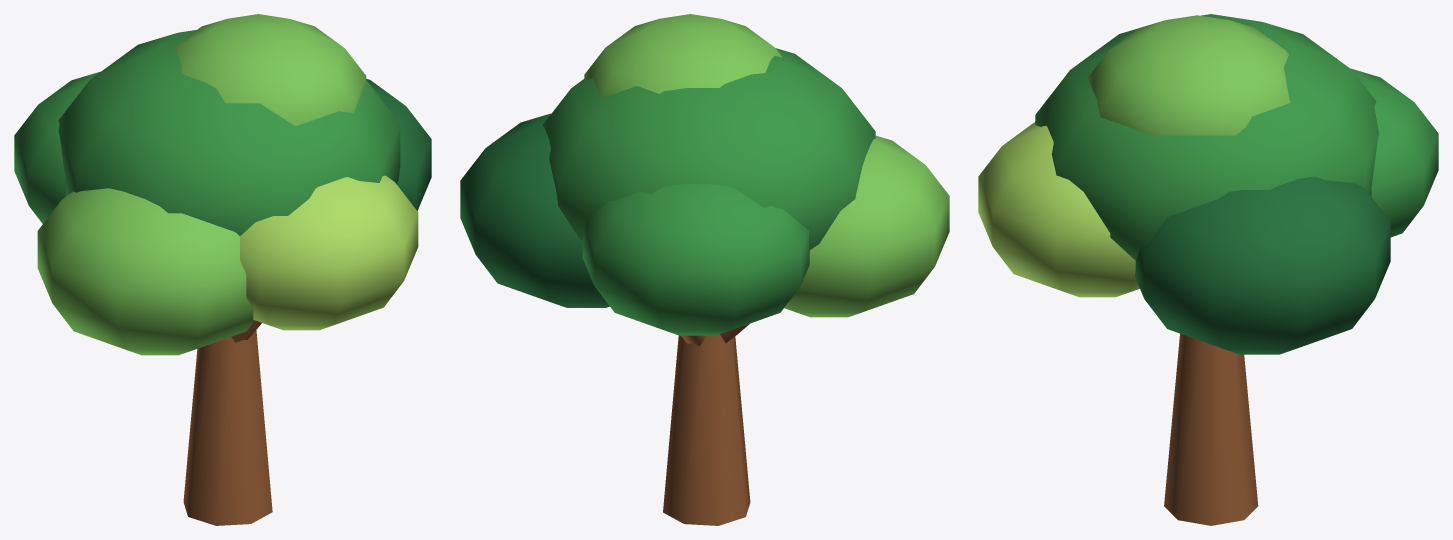
File: tropical-tree.glb
3 views of the same model, side by side, from view 1: azimuth 30°, elevation 25°; view 2: azimuth 150°, elevation 25°; view 3: azimuth 270°, elevation 25° (orthographic). The views are drawn at different scales.
Parts seen in each view (by area): view 1: Mesh_leaf, Mesh_leafLight, Mesh_leafLime, Mesh_wood, Mesh_leafDark; view 2: Mesh_leaf, Mesh_leafLight, Mesh_leafDark, Mesh_wood; view 3: Mesh_leaf, Mesh_leafDark, Mesh_leafLight, Mesh_leafLime, Mesh_wood.
Part boxes in pixels (<box>): Mesh_leaf: <box>14,30,400,235</box>; Mesh_leafLight: <box>37,14,366,355</box>; Mesh_leafLime: <box>240,175,418,330</box>; Mesh_wood: <box>183,320,272,525</box>; Mesh_leafDark: <box>366,79,431,210</box>; Mesh_leaf: <box>543,48,875,335</box>; Mesh_leafLight: <box>584,14,949,317</box>; Mesh_leafDark: <box>460,113,609,307</box>; Mesh_wood: <box>663,323,750,525</box>; Mesh_leaf: <box>1035,14,1438,260</box>; Mesh_leafDark: <box>1134,176,1390,354</box>; Mesh_leafLight: <box>1088,15,1289,137</box>; Mesh_leafLime: <box>978,122,1139,297</box>; Mesh_wood: <box>1164,333,1258,525</box>.
Bounding box in the file's own units: 3.48 × 3.89 × 3.32.
